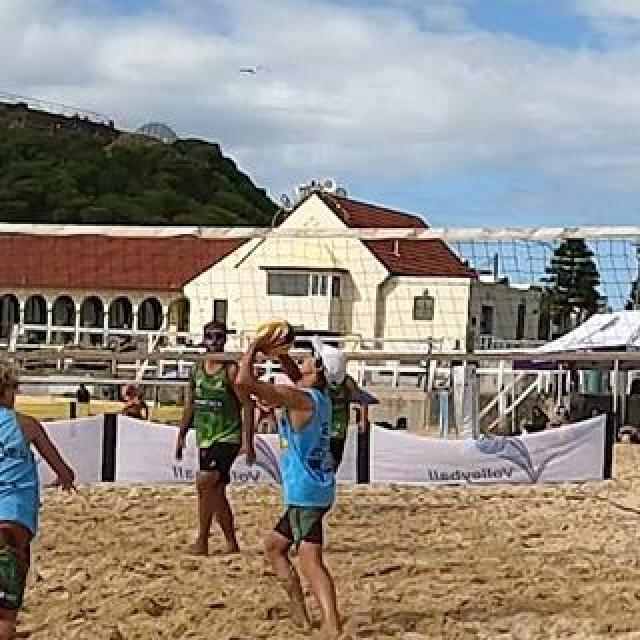volleyball: (255, 317, 295, 357)
